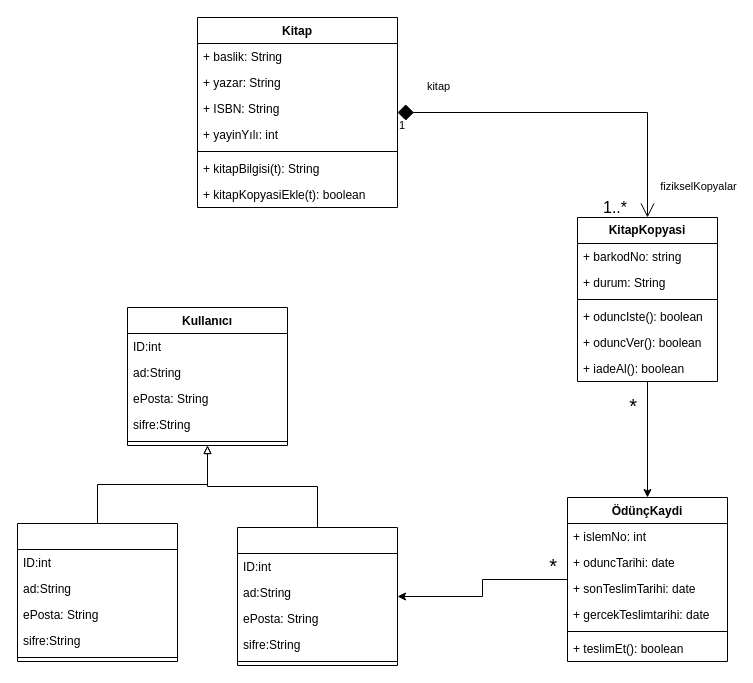
Image size: 753x683. Some labels were removed from this diagram. Here are the shapes that lost their labels. From the top down, the box of each, then its label:
(16, 522, 178, 662): KütüphaneGorevlisi
(236, 526, 398, 666): Üye
